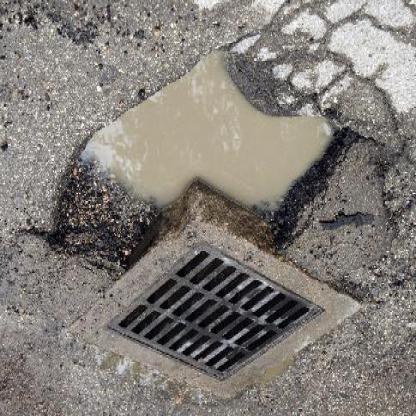pothole: (45, 50, 358, 280)
